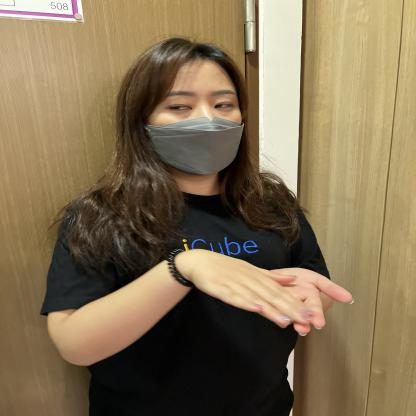Love: (106, 218, 406, 353)
